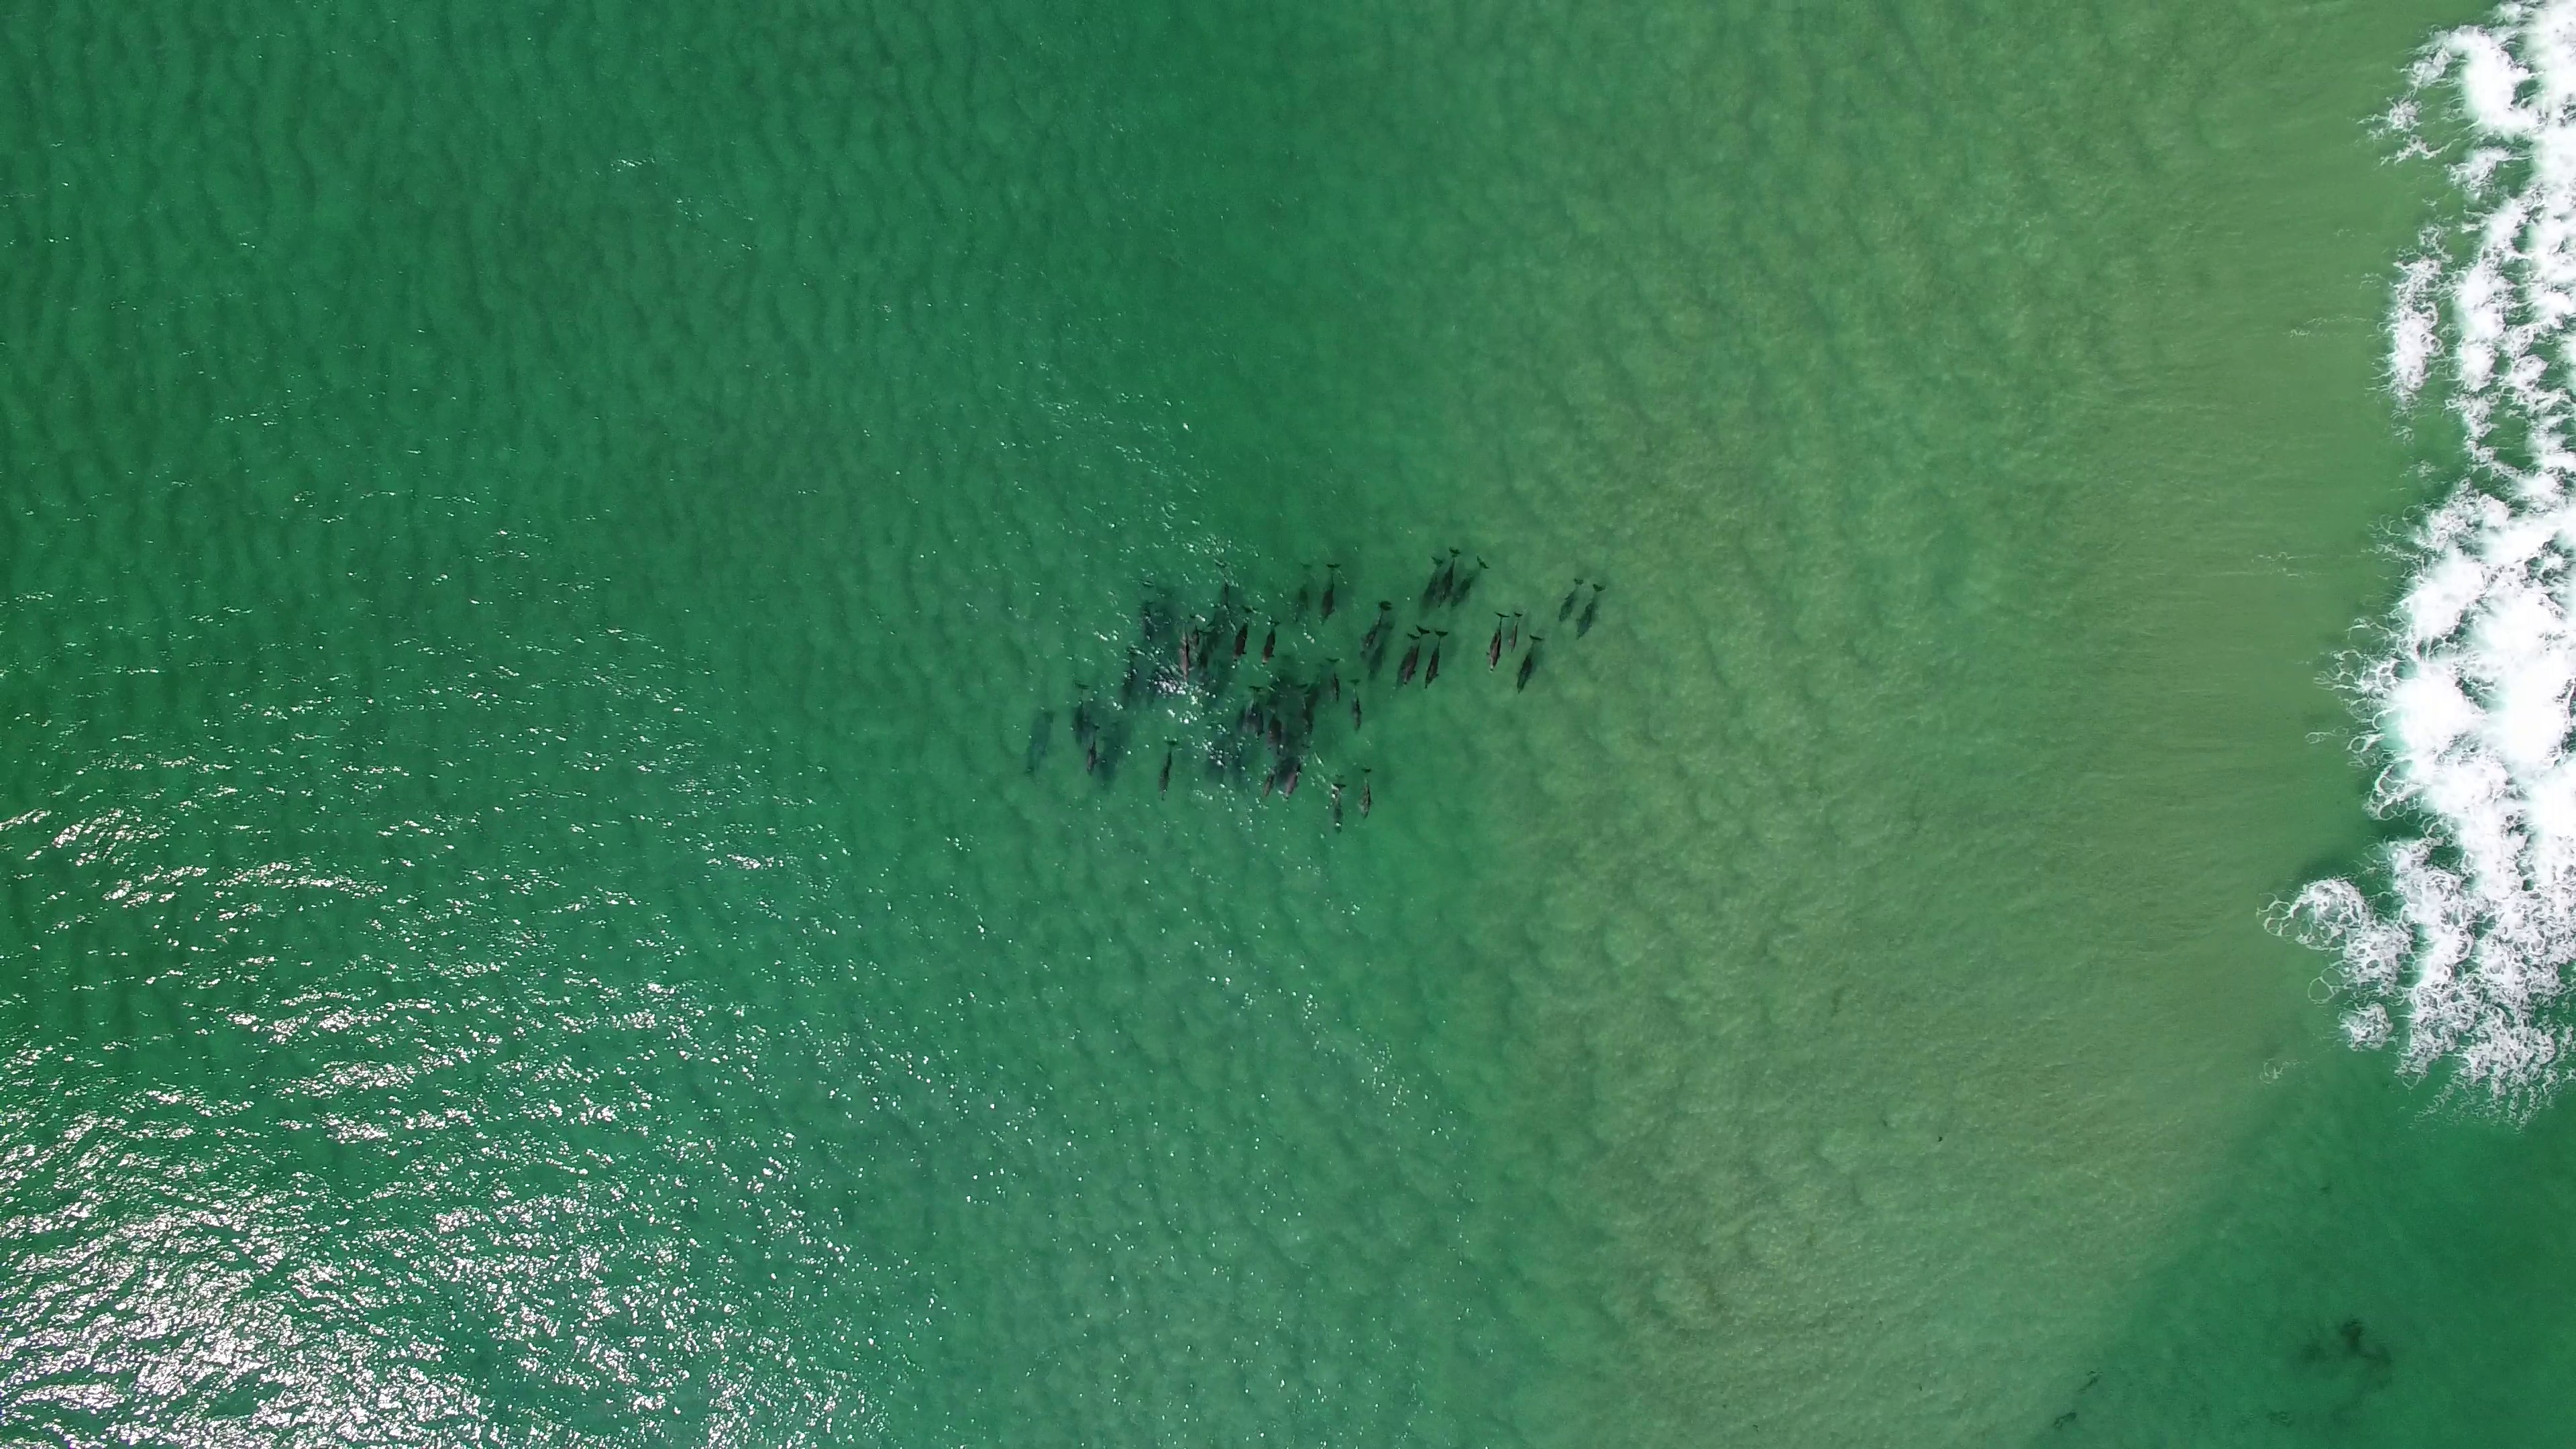dolphin: (1453, 554, 1490, 607), (1228, 602, 1258, 667), (1576, 582, 1606, 640), (1516, 633, 1545, 694), (1422, 626, 1449, 690), (1392, 632, 1419, 692), (1401, 625, 1428, 685), (1361, 602, 1391, 655), (1318, 559, 1341, 628), (1484, 609, 1509, 672), (1290, 559, 1313, 623), (1417, 554, 1442, 612), (1369, 621, 1394, 679), (1438, 545, 1461, 607), (1157, 740, 1178, 805), (1069, 676, 1088, 747), (1286, 743, 1311, 798), (1118, 642, 1136, 713), (1293, 685, 1318, 734), (1559, 577, 1583, 623), (1265, 702, 1284, 761), (1260, 617, 1283, 665), (1175, 616, 1191, 683), (1330, 782, 1348, 837), (1348, 676, 1364, 732), (1249, 686, 1265, 743), (1507, 610, 1527, 651), (1086, 722, 1100, 777), (1361, 768, 1375, 821), (1327, 655, 1339, 708), (1185, 605, 1201, 646), (1258, 766, 1279, 796)
